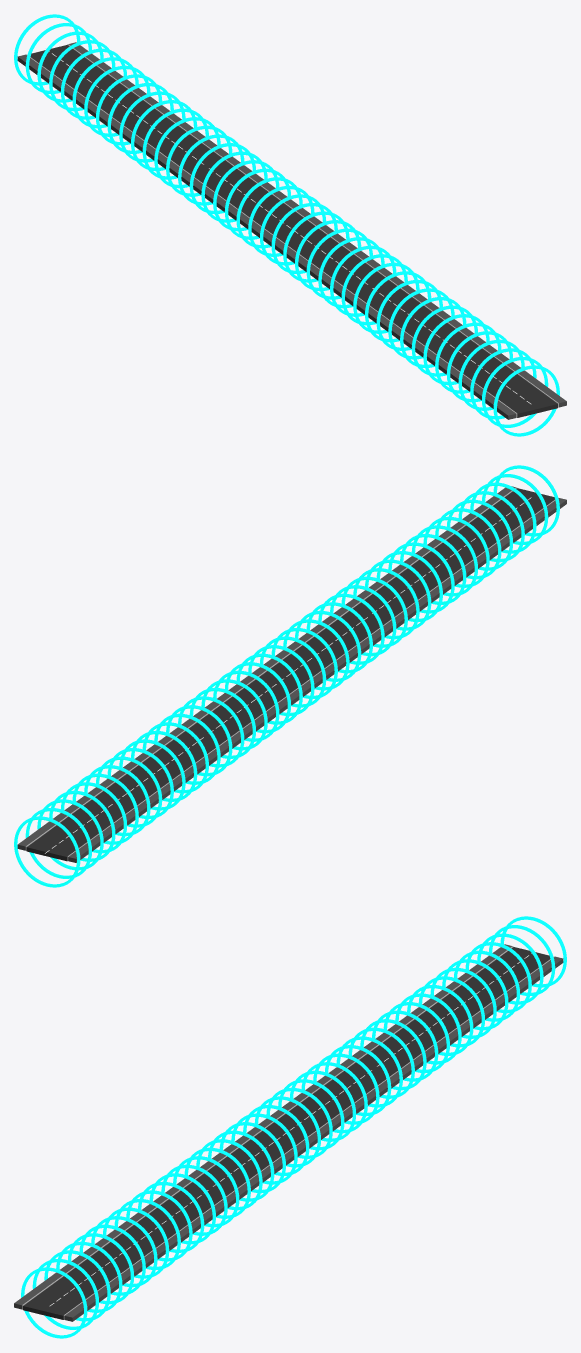
The model's file is stage-signoad2.glb.
3 views of the same model, one above another, from view 1: azimuth 30°, elevation 25°; view 2: azimuth 150°, elevation 25°; view 3: azimuth 330°, elevation 25° (orthographic).
Visible parts, largest first — view 1: Cube (1) (×4), Cube (×4), Cube (2), ring (13) (×3), ring (12) (×3), ring (11) (×3), ring (7) (×3), ring (5) (×3), ring (6) (×3), ring (2) (×3), ring (8) (×3), ring (10) (×3) (+5 smaller); view 2: Cube (1) (×4), Cube (×4), Cube (2), ring (×3), ring (1) (×3), ring (2) (×3), ring (11) (×3), ring (7) (×3), ring (6) (×3), ring (4) (×3), ring (8) (×3), ring (5) (×3) (+5 smaller); view 3: Cube (×4), Cube (1) (×4), Cube (2), ring (13) (×3), ring (12) (×3), ring (11) (×3), ring (7) (×3), ring (5) (×3), ring (6) (×3), ring (2) (×3), ring (8) (×3), ring (10) (×3) (+5 smaller).
Boxes of the visible parts, <box> form: Cube (1) (×4): <box>17,45,516,419</box>; Cube (×4): <box>68,42,566,407</box>; Cube (2): <box>354,284,557,417</box>; ring (13) (×3): <box>166,125,559,436</box>; ring (12) (×3): <box>154,117,548,427</box>; ring (11) (×3): <box>142,108,536,419</box>; ring (7) (×3): <box>96,74,489,385</box>; ring (5) (×3): <box>72,57,466,367</box>; ring (6) (×3): <box>84,65,477,376</box>; ring (2) (×3): <box>37,31,431,342</box>; ring (8) (×3): <box>107,83,501,393</box>; ring (10) (×3): <box>131,100,524,410</box>; Cube (1) (×4): <box>26,498,566,862</box>; Cube (×4): <box>17,486,515,850</box>; Cube (2): <box>354,488,554,616</box>; ring (×3): <box>14,576,407,887</box>; ring (1) (×3): <box>25,568,419,878</box>; ring (2) (×3): <box>37,559,431,870</box>; ring (11) (×3): <box>142,482,536,793</box>; ring (7) (×3): <box>96,516,489,827</box>; ring (6) (×3): <box>84,525,477,836</box>; ring (4) (×3): <box>61,542,454,853</box>; ring (8) (×3): <box>107,508,501,818</box>; ring (5) (×3): <box>72,534,466,844</box>; Cube (×4): <box>64,956,563,1321</box>; Cube (1) (×4): <box>14,944,550,1309</box>; Cube (2): <box>23,1186,226,1319</box>; ring (13) (×3): <box>21,1027,414,1338</box>; ring (12) (×3): <box>32,1019,426,1329</box>; ring (11) (×3): <box>44,1010,438,1321</box>; ring (7) (×3): <box>91,976,484,1287</box>; ring (5) (×3): <box>114,959,508,1269</box>; ring (6) (×3): <box>103,967,496,1278</box>; ring (2) (×3): <box>149,933,543,1244</box>; ring (8) (×3): <box>79,985,473,1295</box>; ring (10) (×3): <box>56,1002,449,1312</box>.
Bounding box in the file's own units: 16.37 × 16.37 × 211.
Materials: 18 (14 with a texture image).
